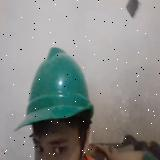Helmet: (15, 42, 93, 131)
